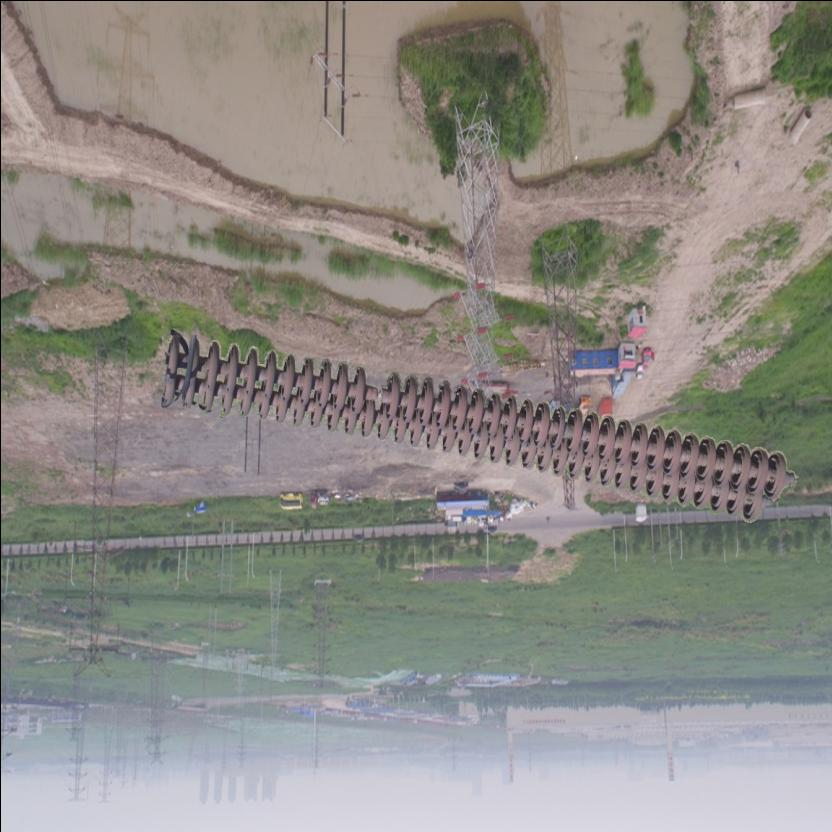defect: (346, 366, 402, 423)
